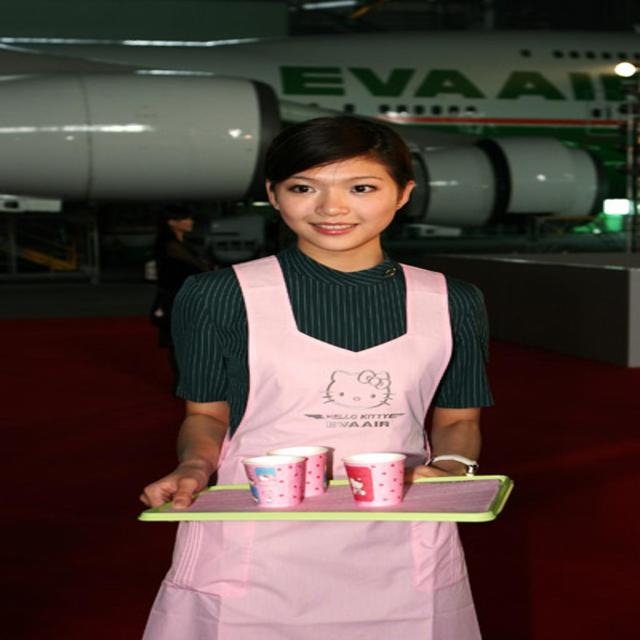nomask: (273, 153, 399, 250)
